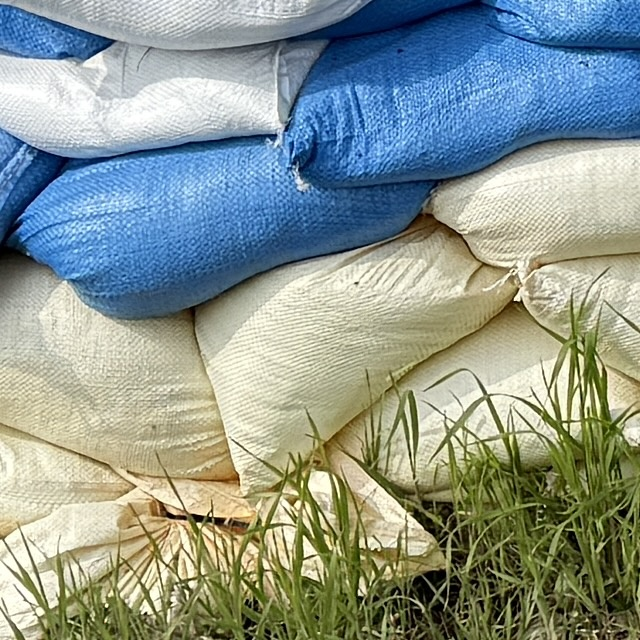sandbag: (195, 217, 516, 496), (11, 139, 431, 319), (278, 13, 640, 187), (338, 305, 640, 500), (0, 41, 325, 159), (426, 140, 640, 283), (0, 502, 200, 640), (0, 0, 370, 51), (516, 255, 640, 383), (479, 0, 640, 50), (307, 0, 477, 39)
